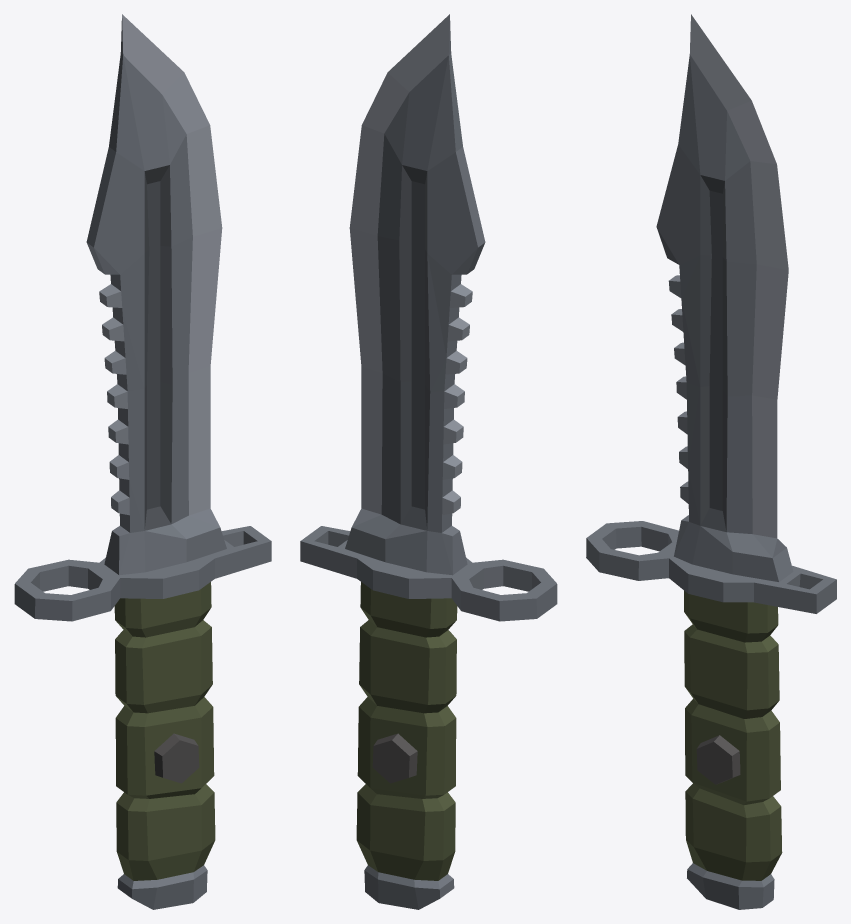
Rendered from SM_Wep_Knife_01.fbx.
The picture shows the model from 3 angles, left to right: view 1: azimuth 30°, elevation 25°; view 2: azimuth 150°, elevation 25°; view 3: azimuth 330°, elevation 25°; orthographic projection. The views are drawn at different scales.
Parts seen in each view (by area): view 1: SM_Wep_Knife_01; view 2: SM_Wep_Knife_01; view 3: SM_Wep_Knife_01.
Boxes of the visible parts, <box> form: SM_Wep_Knife_01: <box>14,14,271,909</box>; SM_Wep_Knife_01: <box>300,14,557,909</box>; SM_Wep_Knife_01: <box>586,14,836,909</box>.
Size of the model in its own units: 10.6 by 38.41 by 3.44.
